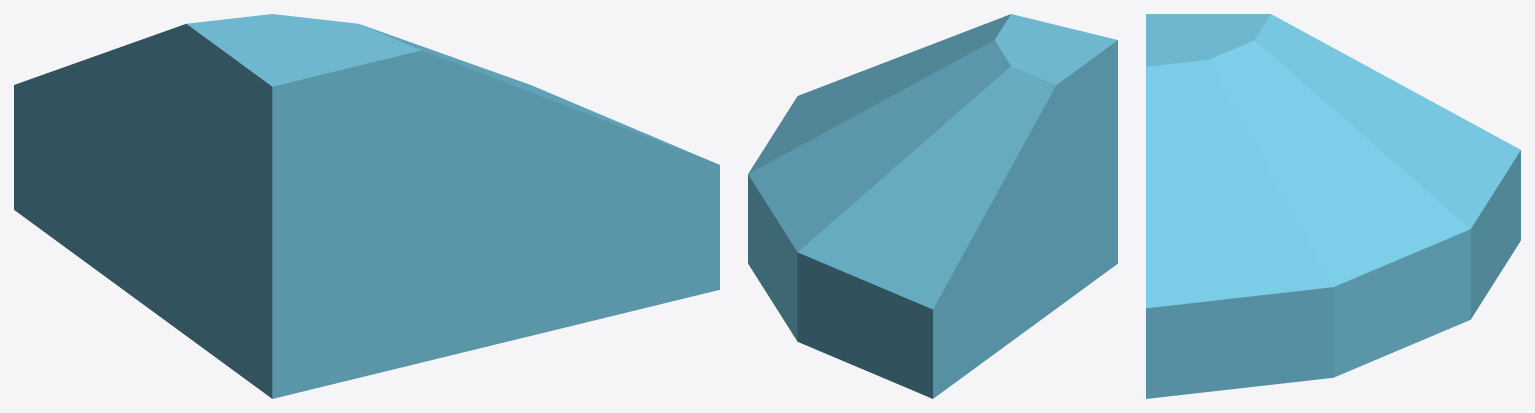
File: spacestation_structure_fuselage_curved_outer_normal.glb
The picture shows the model from 3 angles, left to right: view 1: azimuth 30°, elevation 25°; view 2: azimuth 150°, elevation 25°; view 3: azimuth 270°, elevation 25°; orthographic projection. The views are drawn at different scales.
Bounding box in the file's own units: 1.5 × 1 × 1.5.
